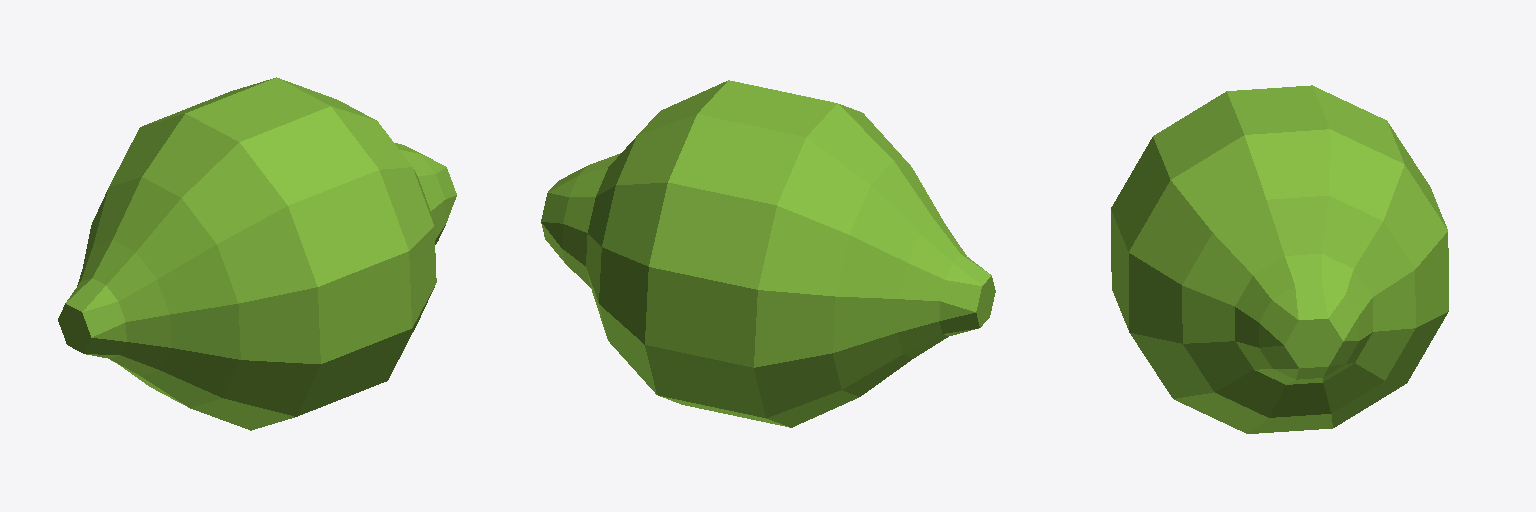
The model's file is fulllime.obj.
3 views of the same model, side by side, from view 1: azimuth 30°, elevation 25°; view 2: azimuth 150°, elevation 25°; view 3: azimuth 270°, elevation 25° (orthographic).
Parts seen in each view (by area): view 1: model.002; view 2: model.002; view 3: model.002.
Part boxes in pixels (x1,y1,x2,y2): model.002: (58, 77, 456, 430); model.002: (541, 80, 995, 427); model.002: (1111, 85, 1448, 433).
Size of the model in its own units: 0.2803 by 0.1965 by 0.202.